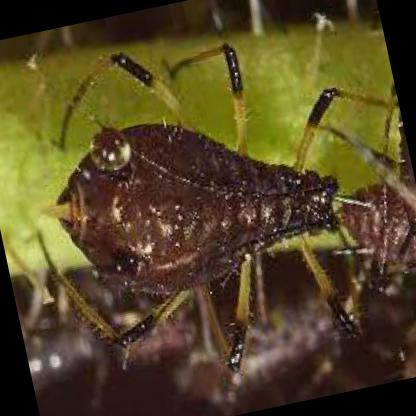uroleucon compositae: (41, 42, 340, 372)
